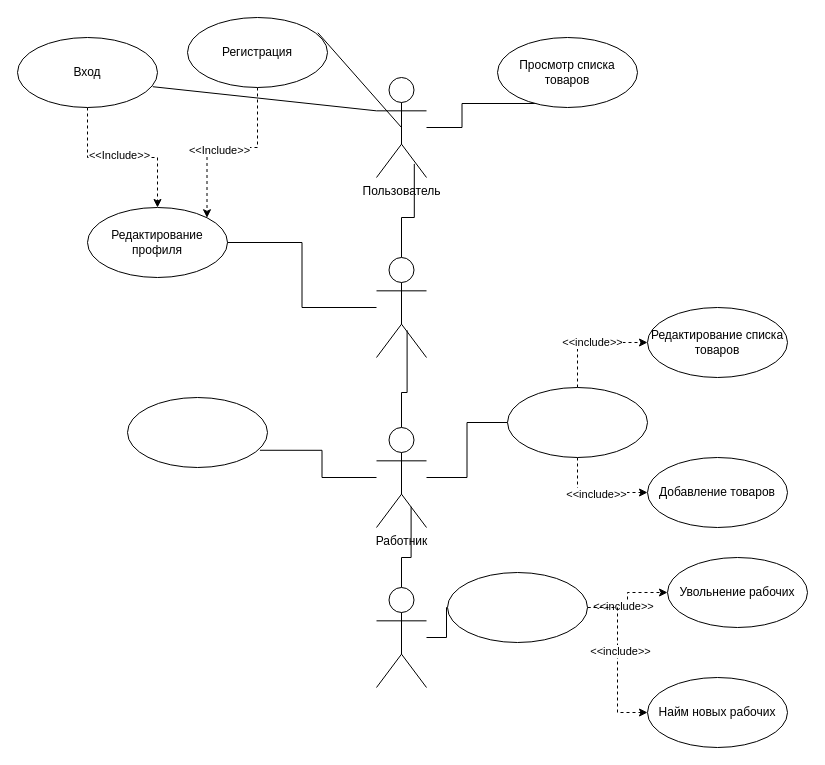
The diagram is 825 pixels wide and 765 high, and some of its shapes have lost their labels. The shapes that lost their labels are listed below. From the top down, each one's box as (x1, y1, x2, y2) in pixels, then its label:
(376, 256, 426, 358): Авторизованный пользователь
(126, 396, 268, 468): Просмотр списков работников аптеки
(506, 386, 648, 458): Работа с товарами
(446, 572, 588, 642): Работа со списком работников актеки
(376, 586, 426, 688): Администратор
